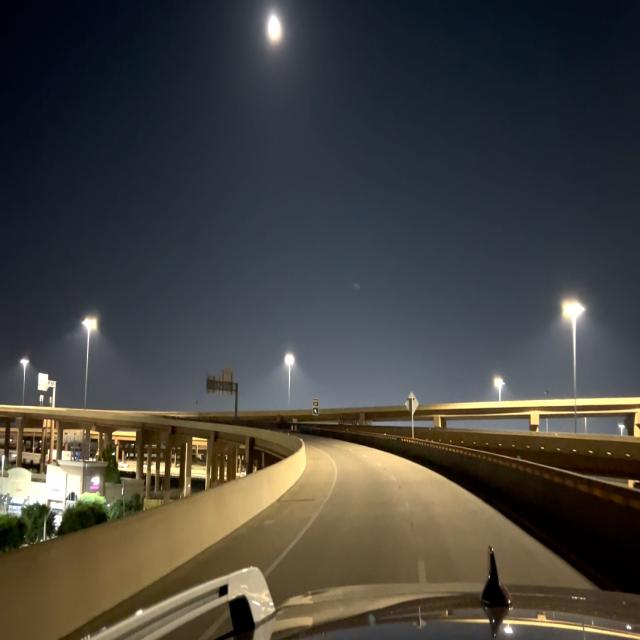back-of-sign: (406, 391, 419, 417)
